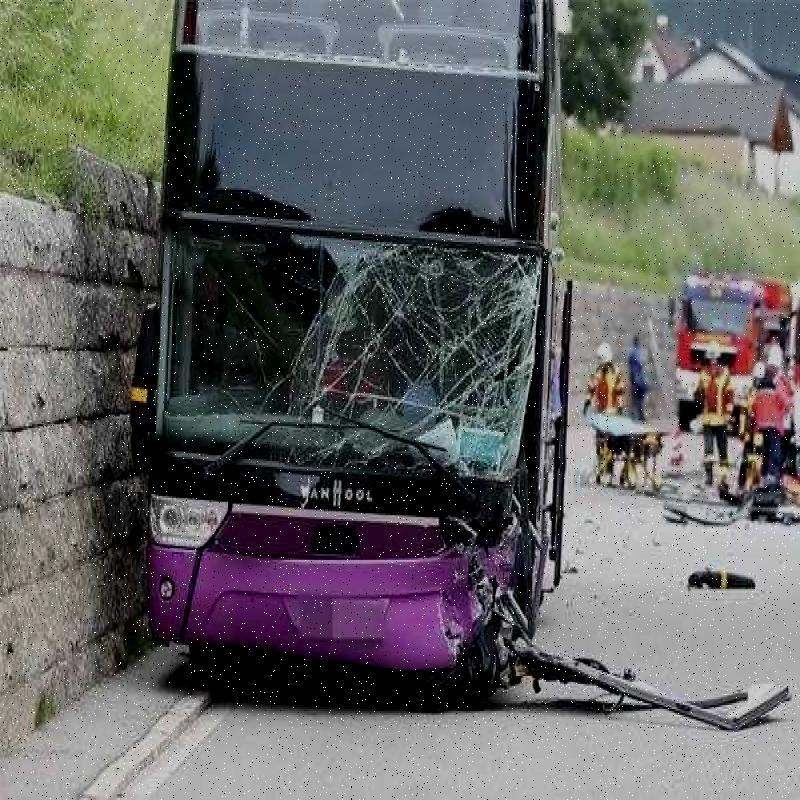bus: (141, 13, 612, 724)
